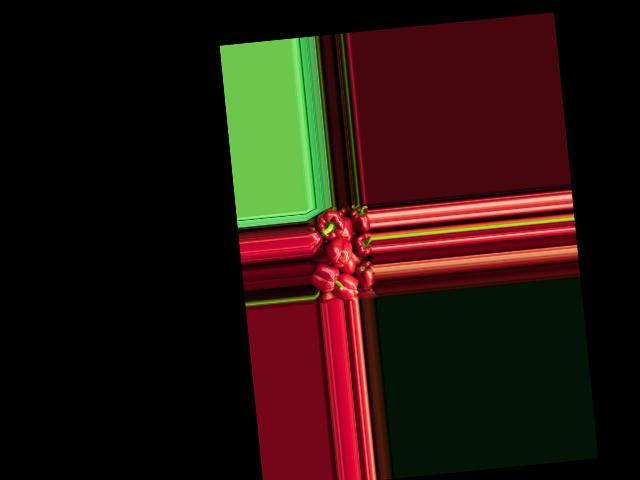bell_pepper: (349, 205, 370, 232)
